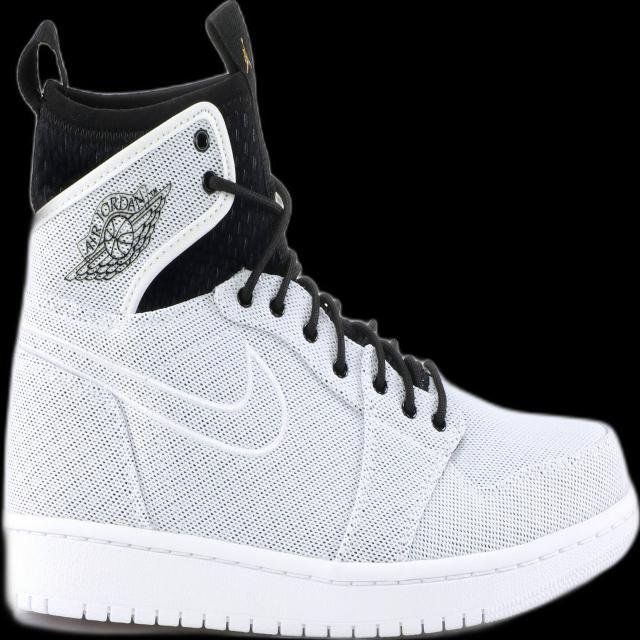J1_InsoleChar: (1, 1, 637, 638)
J1_ShoeLogo: (63, 180, 173, 283)
J1_ShoeShape: (14, 0, 301, 313)
J1_StitchPattern: (200, 165, 450, 432), (60, 117, 227, 286), (293, 275, 449, 430), (199, 165, 303, 313), (420, 356, 449, 432)
